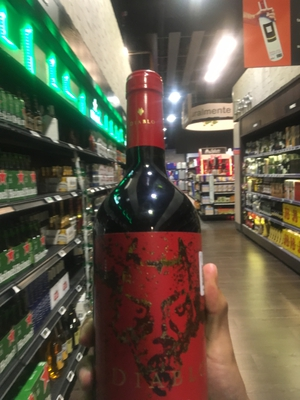diablo dark red: (82, 72, 218, 386)
